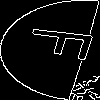F: (24, 25, 100, 64)
